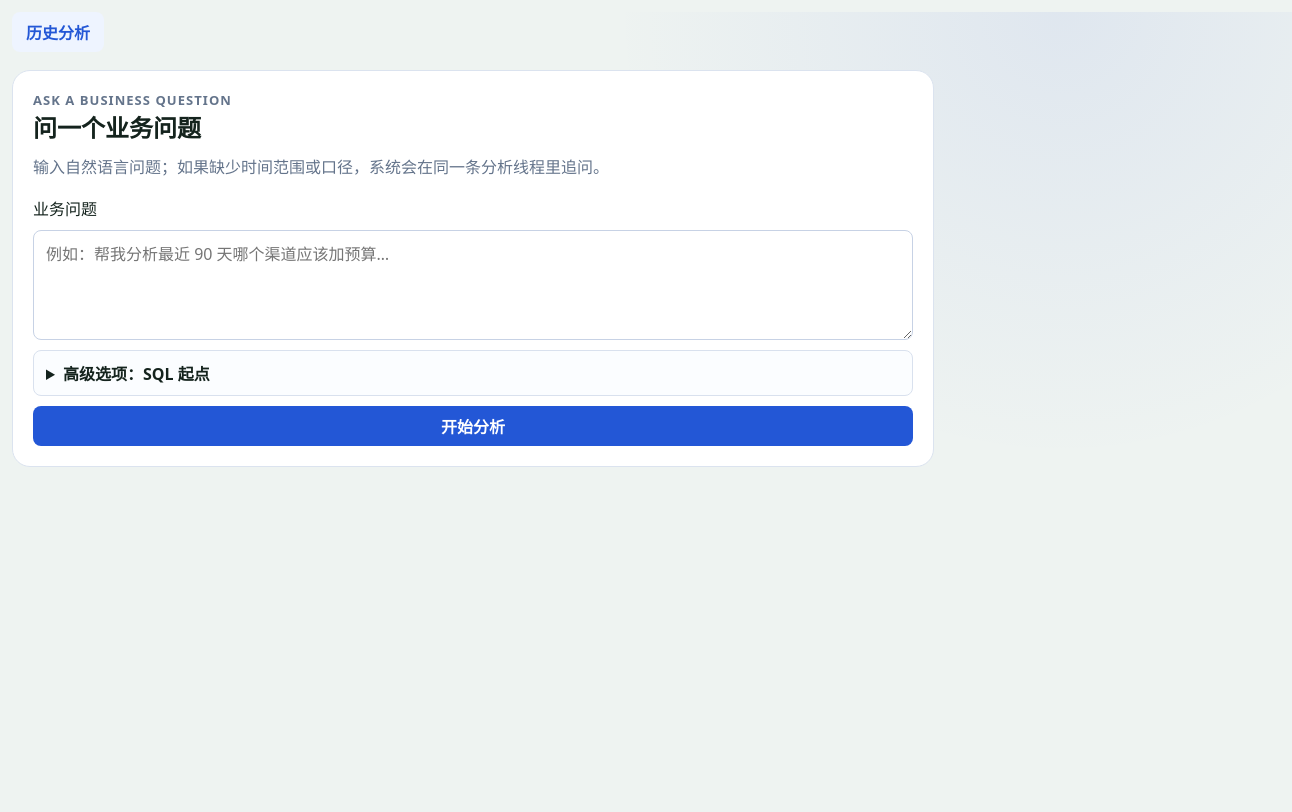
workspace product components › shows a compact recoverable task card immediately after submitting a background run
Type "最近90天销售额最高的门店是谁？" into the text box labelled "业务问题" at (473, 285), box [33,230,913,340]
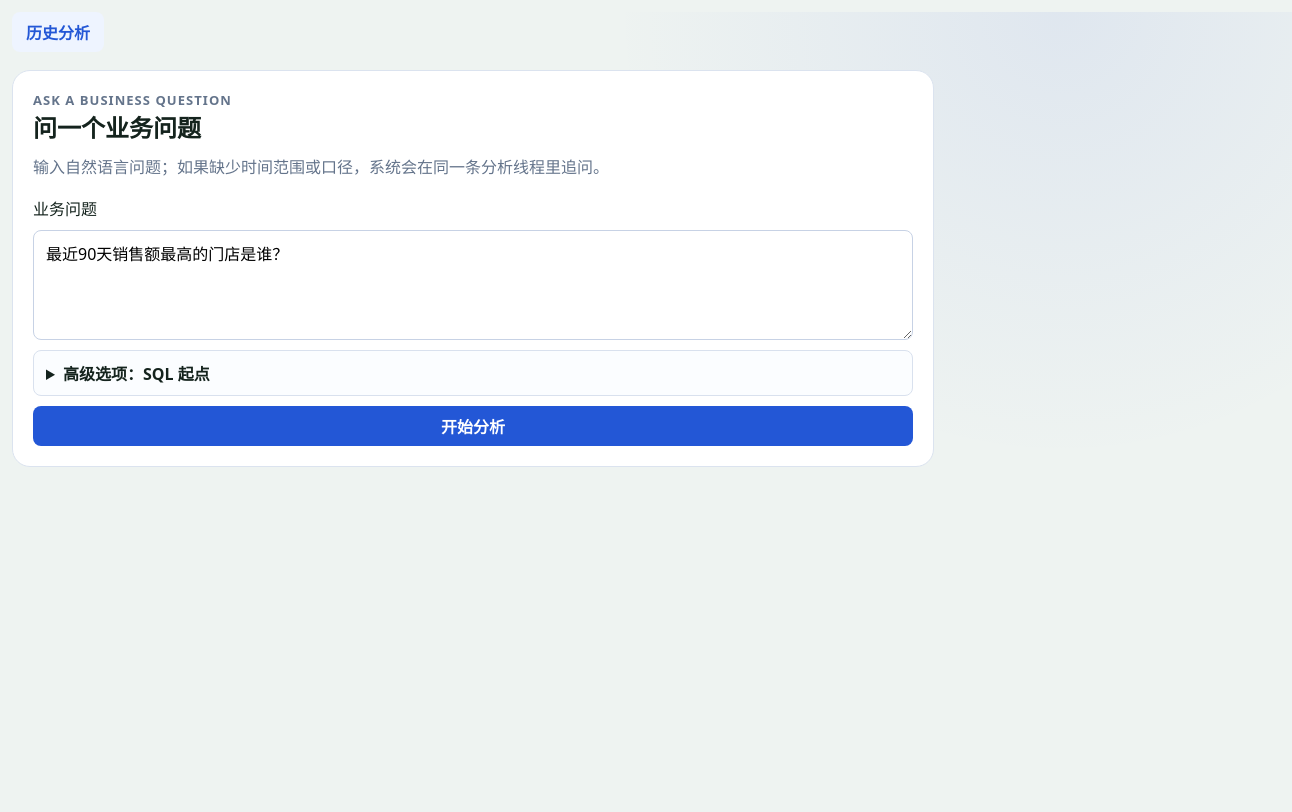
Click the button "开始分析" at (473, 426), box [33,406,913,446]
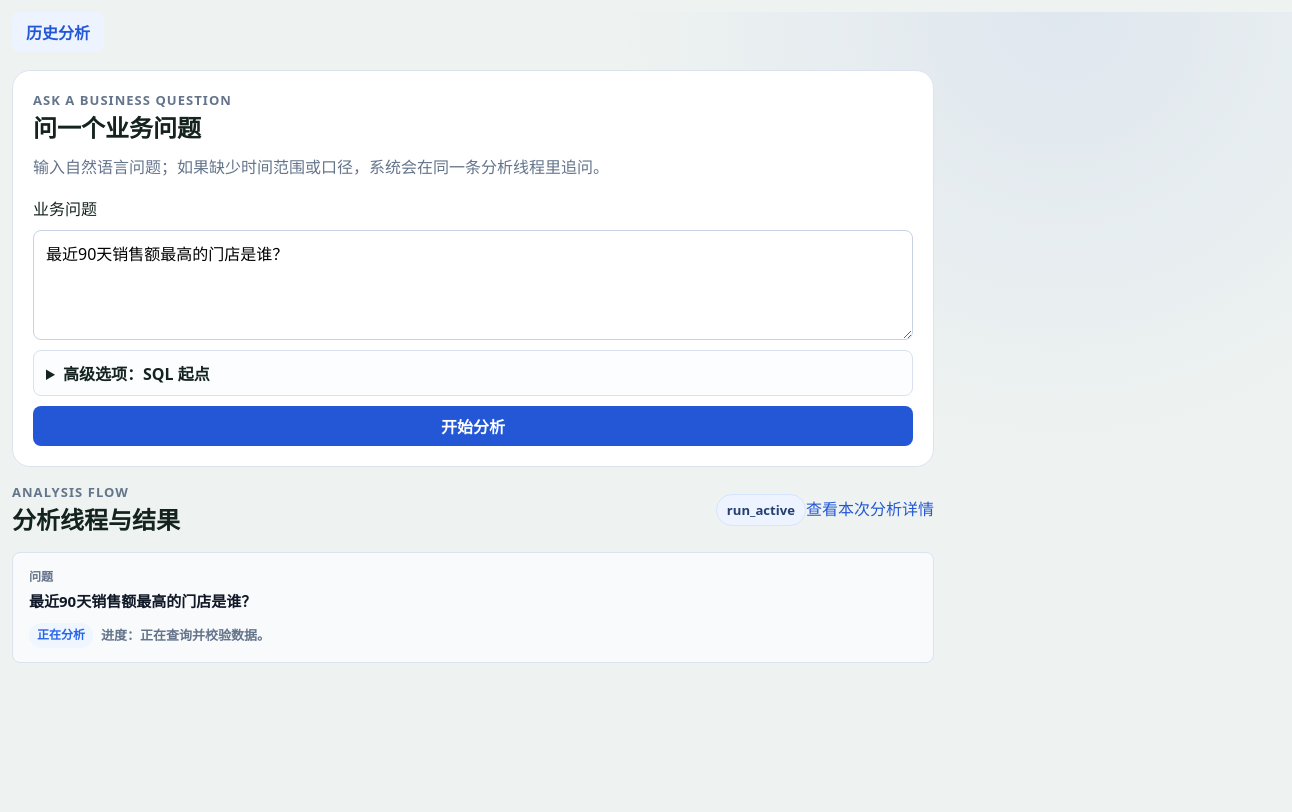
Now the link with aria-label "当前分析任务" shows "正在分析", box [12,552,934,662]
Now the link with aria-label "当前分析任务" shows "正在查询并校验数据。", box [12,552,934,662]
Now the link with aria-label "当前分析任务" shows "最近90天销售额最高的门店是谁？", box [12,552,934,662]
